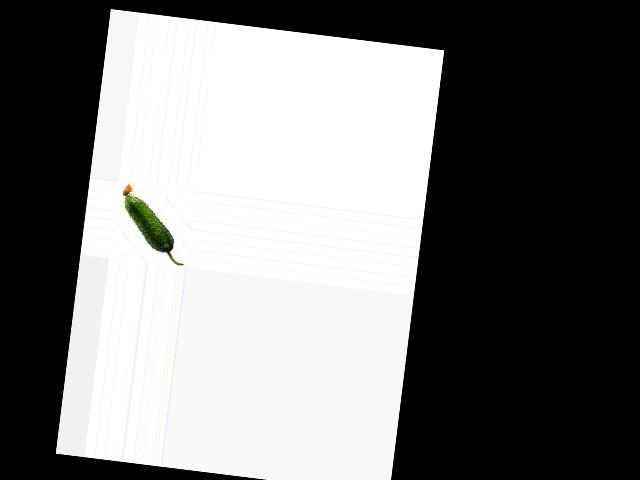cucumber: (114, 182, 192, 265)
